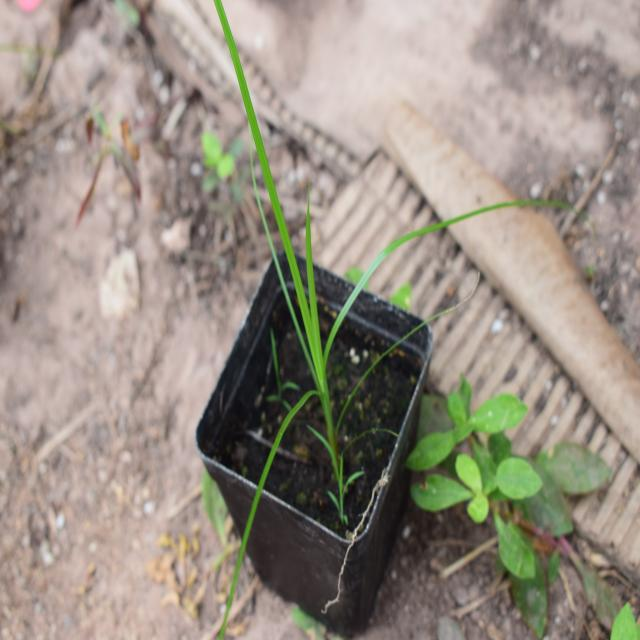sedge: (176, 0, 444, 485)
